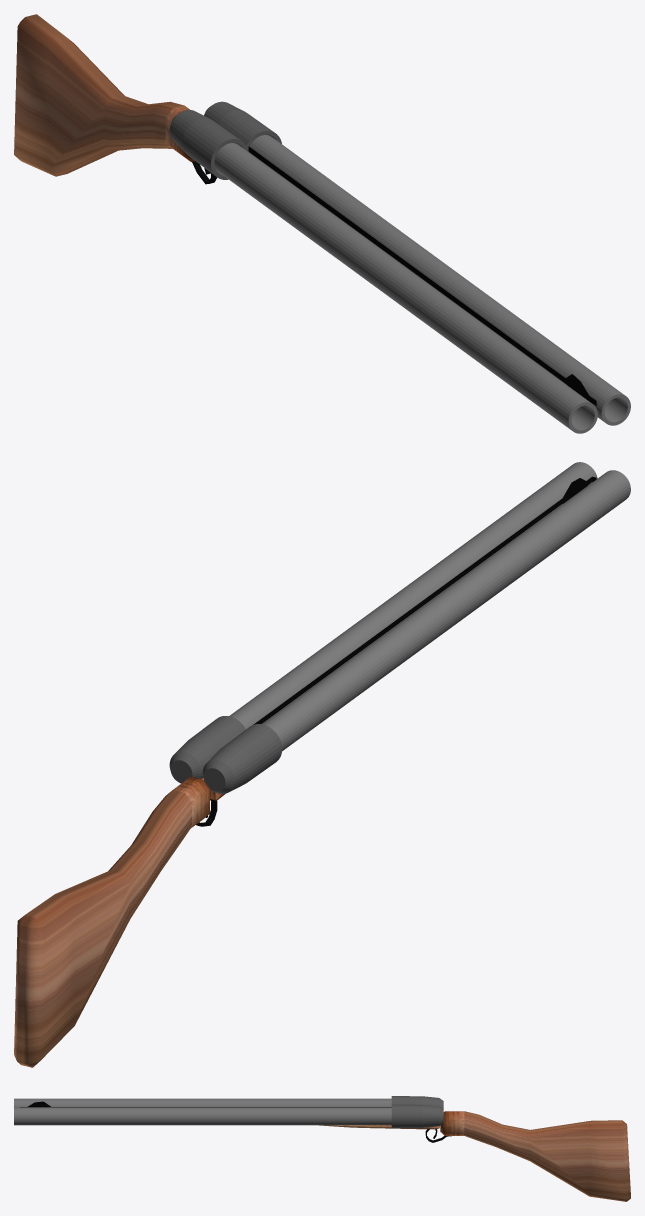
File: ShotGun_separada.glb
3 renders of one model, top to bottom at view 1: azimuth 30°, elevation 25°; view 2: azimuth 150°, elevation 25°; view 3: azimuth 270°, elevation 25°, orthographic. The views are drawn at different scales.
Parts seen in each view (by area): view 1: Cilindro, Plano; view 2: Cilindro, Plano; view 3: Cilindro, Plano.
Part boxes in pixels (bbox=[...]): Cilindro: bbox=[214, 135, 630, 433]; Plano: bbox=[14, 14, 281, 184]; Cilindro: bbox=[229, 462, 630, 751]; Plano: bbox=[14, 716, 282, 1067]; Cilindro: bbox=[14, 1098, 416, 1128]; Plano: bbox=[391, 1096, 630, 1201].
Size of the model in its own units: 0.8582 by 2.13 by 12.02.
6 materials, 2 textured.
